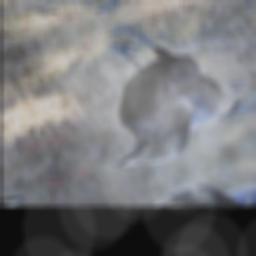Crow: (52, 0, 256, 178)
